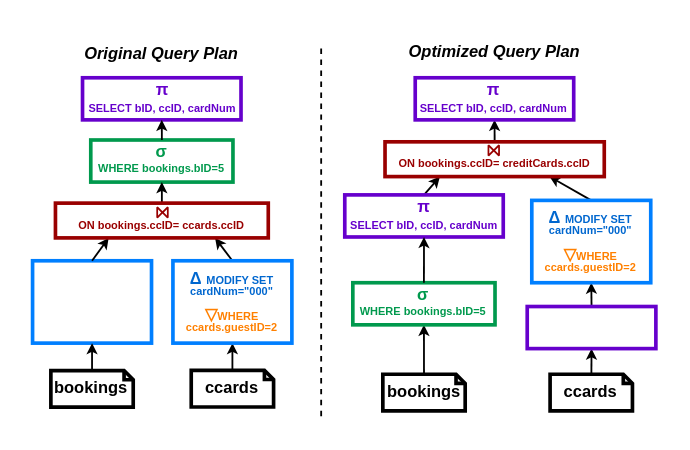
The diagram is 690 pixels wide and 450 high, and some of its shapes have lost their labels. The shapes that lost their labels are listed below. From the top down, each one's centre as x and y in pixels, then its label:
the point at 91,301: Δ DECOR WHERE startTime>2022 ▽ WHERE bookings.guestID=2
the point at 590,327: π SELECT ccID, cardNum
